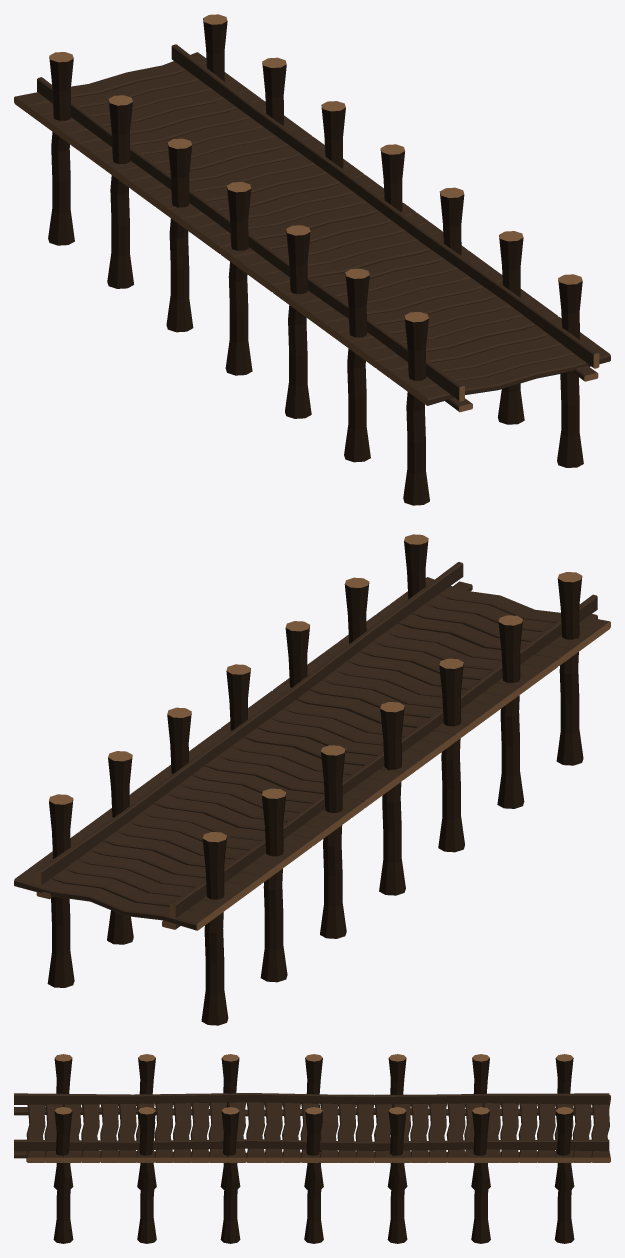
The model's file is obj_wooden_kade (2).fbx.
The picture shows the model from 3 angles, top to bottom: view 1: azimuth 30°, elevation 25°; view 2: azimuth 150°, elevation 25°; view 3: azimuth 270°, elevation 25°; orthographic projection. The views are drawn at different scales.
Visible parts, largest first — view 1: polySurface51, polySurface52, polySurface37, polySurface39, polySurface35, polySurface41, polySurface43, polySurface33, polySurface45, polySurface46, polySurface25, polySurface44 (+36 smaller); view 2: polySurface51, polySurface52, polySurface33, polySurface45, polySurface35, polySurface43, polySurface41, polySurface37, polySurface39, polySurface34, polySurface6, polySurface22 (+36 smaller); view 3: polySurface52, polySurface51, polySurface46, polySurface42, polySurface34, polySurface38, polySurface44, polySurface36, polySurface40, polySurface31, msh_plank, polySurface12 (+37 smaller).
Boxes of the visible parts, x1=… form: polySurface51: x1=171, y1=44, x2=599, y2=368; polySurface52: x1=37, y1=77, x2=464, y2=401; polySurface37: x1=166, y1=138, x2=193, y2=332; polySurface39: x1=225, y1=182, x2=252, y2=375; polySurface35: x1=107, y1=95, x2=133, y2=288; polySurface41: x1=285, y1=225, x2=311, y2=418; polySurface43: x1=344, y1=268, x2=370, y2=462; polySurface33: x1=48, y1=52, x2=74, y2=245; polySurface45: x1=403, y1=312, x2=429, y2=505; polySurface46: x1=557, y1=274, x2=583, y2=467; polySurface25: x1=414, y1=345, x2=610, y2=405; polySurface44: x1=498, y1=231, x2=524, y2=424; polySurface51: x1=35, y1=562, x2=463, y2=886; polySurface52: x1=170, y1=594, x2=597, y2=918; polySurface33: x1=201, y1=832, x2=228, y2=1025; polySurface45: x1=556, y1=572, x2=583, y2=765; polySurface35: x1=260, y1=788, x2=287, y2=982; polySurface43: x1=497, y1=615, x2=524, y2=808; polySurface41: x1=438, y1=658, x2=464, y2=852; polySurface37: x1=320, y1=745, x2=346, y2=938; polySurface39: x1=379, y1=702, x2=405, y2=895; polySurface34: x1=47, y1=794, x2=74, y2=987; polySurface6: x1=14, y1=870, x2=210, y2=930; polySurface22: x1=28, y1=860, x2=223, y2=921; polySurface52: x1=14, y1=1093, x2=609, y2=1104; polySurface51: x1=14, y1=1139, x2=609, y2=1151; polySurface46: x1=53, y1=1107, x2=73, y2=1243; polySurface42: x1=220, y1=1107, x2=240, y2=1243; polySurface34: x1=554, y1=1107, x2=574, y2=1243; polySurface38: x1=387, y1=1107, x2=407, y2=1243; polySurface44: x1=137, y1=1107, x2=156, y2=1243; polySurface36: x1=471, y1=1107, x2=490, y2=1243; polySurface40: x1=304, y1=1107, x2=323, y2=1243; polySurface31: x1=246, y1=1102, x2=265, y2=1162; msh_plank: x1=355, y1=1094, x2=374, y2=1162; polySurface12: x1=154, y1=1103, x2=173, y2=1162.
Size of the model in its own units: 17.82 by 17.04 by 71.48.
